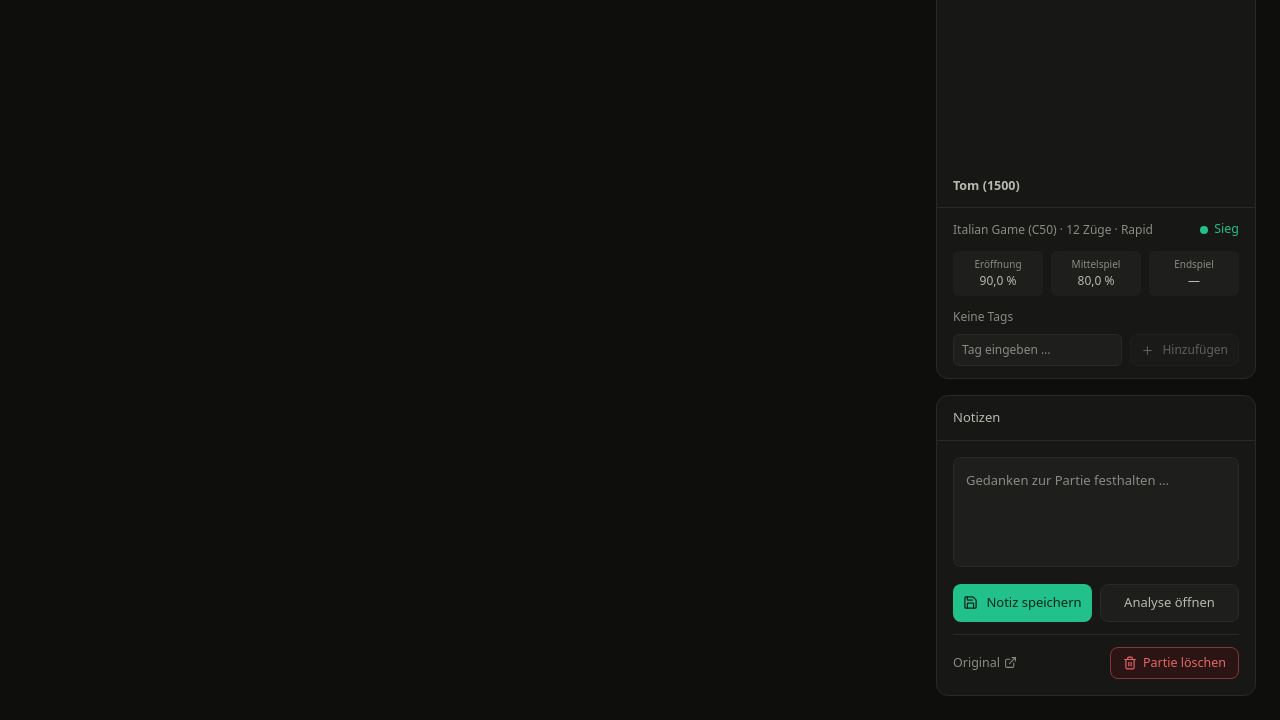
Games page › deletes the selected database game after confirmation
The image size is (1280, 720).
(page scrolled)
What coordinates should you click on to do the following:
click the button "Partie löschen"
I would click on:
 (1174, 663)
Its box is [1110,646,1239,679].
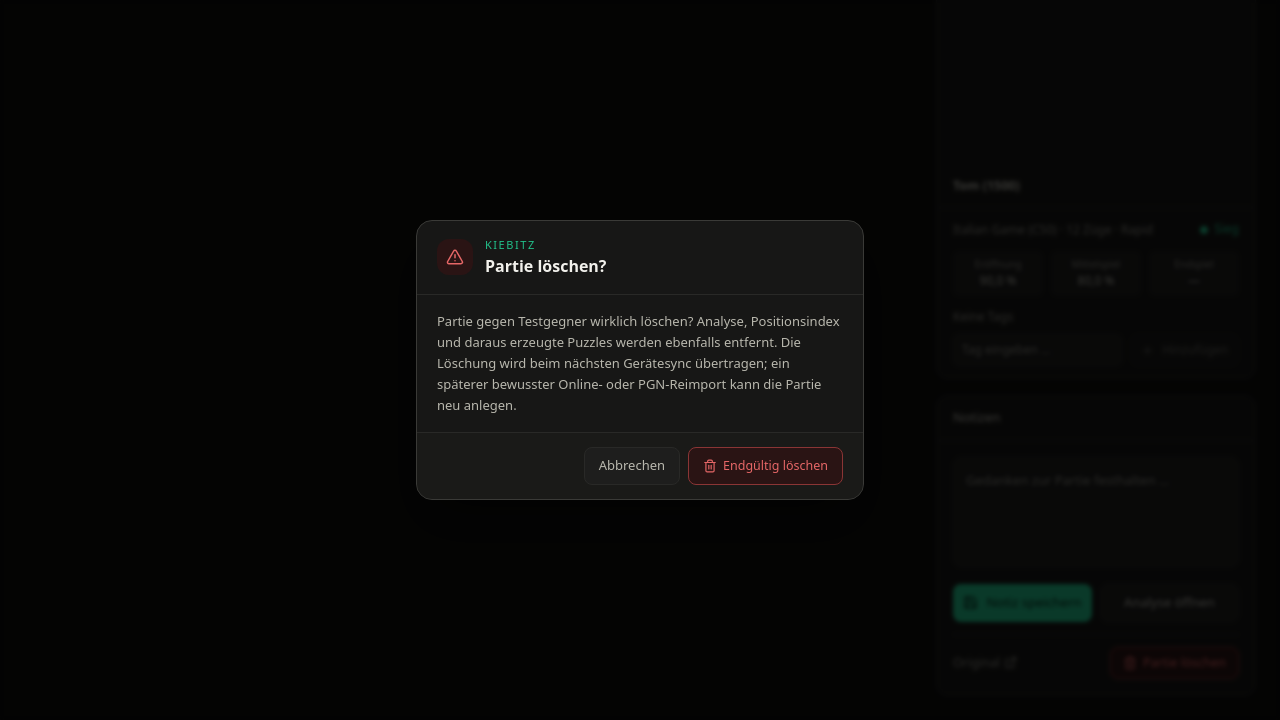
Now the dialog is shown
Now the text "Kiebitz" is shown, box [485,237,536,252]
What coordinates should you click on to do the following:
click the button "Endgültig löschen"
I would click on:
 (766, 466)
Its box is [688,447,843,485].
(page scrolled)
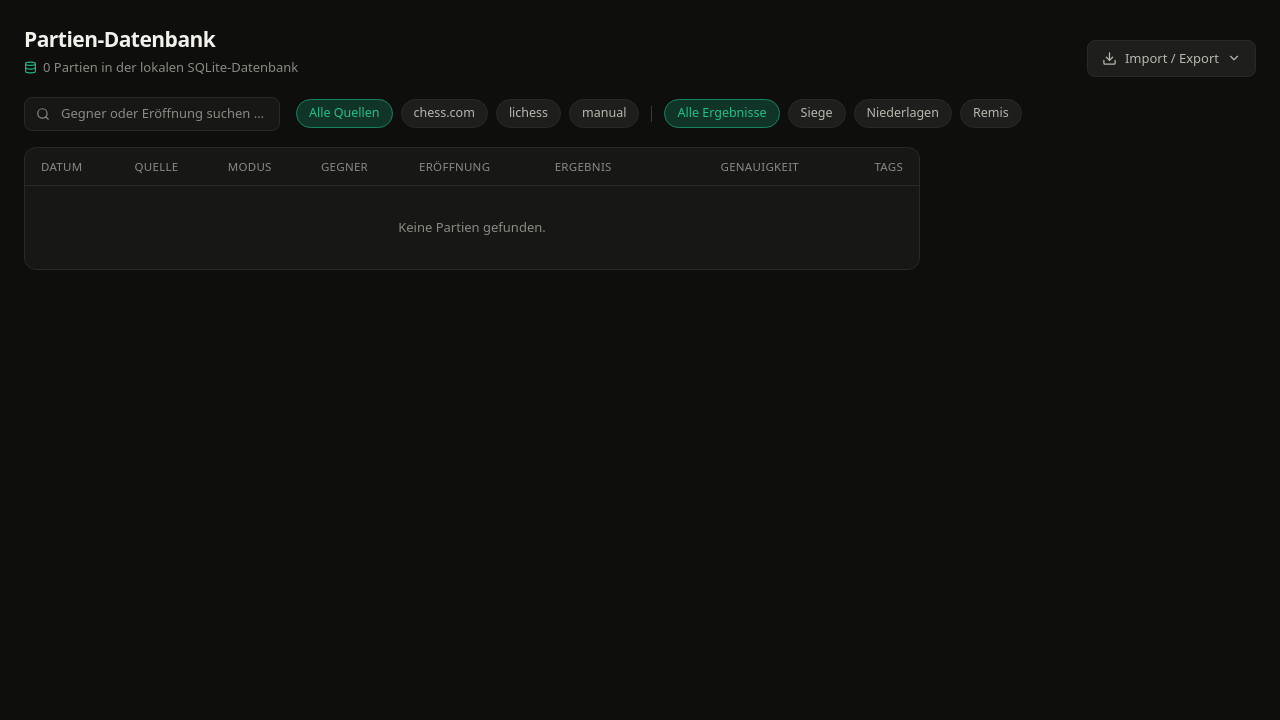
Now the text "Keine Partien gefunden." is shown, box [25,185,919,269]
